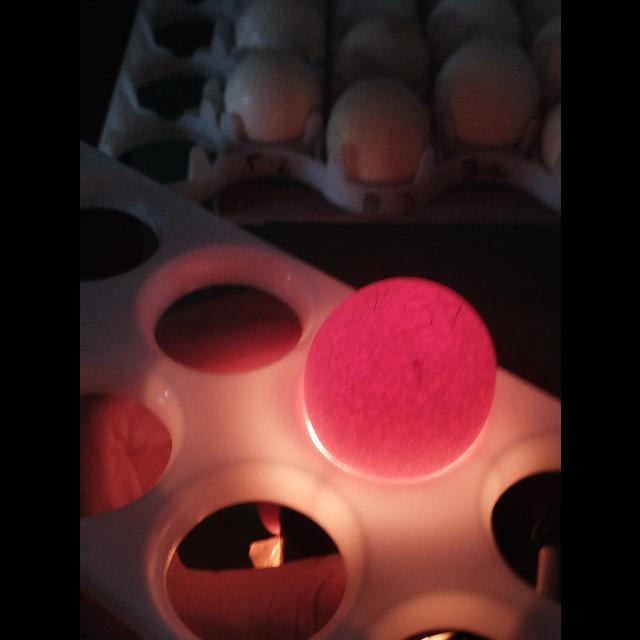Infertile: (300, 272, 500, 483)
